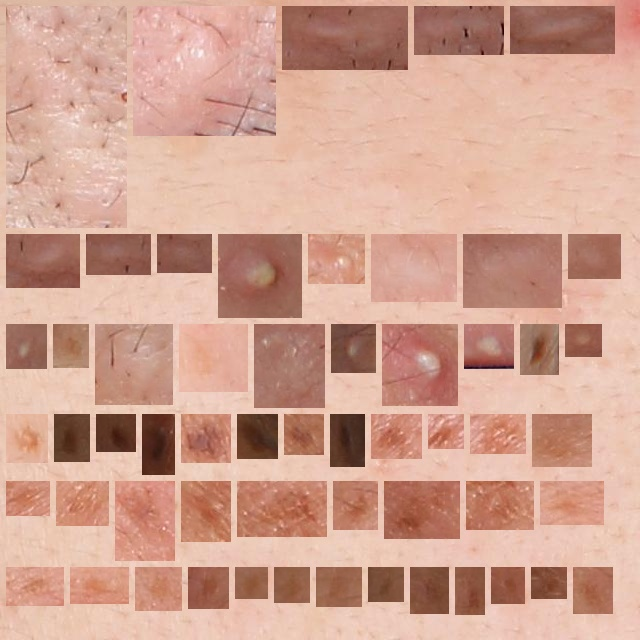hypertrophic_scar: (14, 14, 119, 220), (141, 14, 268, 128), (290, 14, 400, 62), (471, 242, 554, 300), (103, 332, 165, 397), (262, 332, 317, 400), (379, 242, 449, 294), (518, 14, 607, 46), (422, 14, 496, 47), (14, 242, 72, 280), (94, 242, 143, 267), (576, 242, 613, 271), (165, 242, 204, 265)
melasma: (245, 489, 319, 529), (123, 489, 167, 553), (187, 332, 240, 384), (392, 489, 452, 531), (474, 489, 526, 522), (540, 422, 584, 459), (189, 489, 223, 534), (548, 489, 596, 517), (64, 489, 101, 518), (379, 422, 414, 451), (14, 575, 56, 598), (478, 422, 518, 446), (341, 489, 370, 522), (78, 575, 121, 596), (143, 575, 174, 603), (14, 422, 40, 455), (581, 575, 605, 606), (324, 575, 354, 599), (418, 575, 441, 606), (196, 575, 221, 601), (61, 332, 81, 360), (14, 489, 42, 508), (463, 575, 477, 607), (282, 575, 302, 595), (436, 422, 456, 441), (376, 575, 396, 594), (499, 575, 517, 596), (539, 575, 559, 591), (243, 575, 260, 591)
nevus: (189, 422, 223, 455), (528, 332, 551, 367), (150, 422, 167, 467), (245, 422, 270, 451), (338, 422, 357, 459), (62, 422, 82, 454), (292, 422, 316, 447), (104, 422, 128, 444)
pustule: (226, 242, 294, 310), (390, 332, 450, 398), (316, 242, 357, 276), (472, 332, 506, 361), (339, 332, 368, 365), (14, 332, 39, 361), (573, 332, 594, 349)
